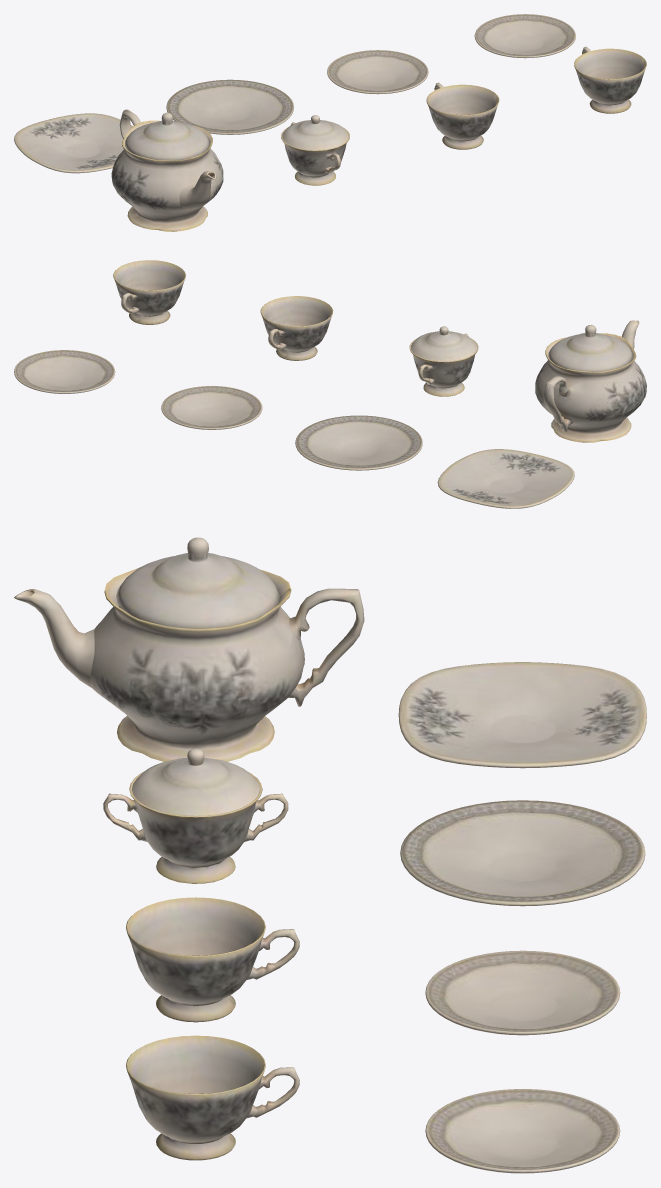
File: tea-set.glb
The picture shows the model from 3 angles, top to bottom: view 1: azimuth 30°, elevation 25°; view 2: azimuth 150°, elevation 25°; view 3: azimuth 270°, elevation 25°; orthographic projection. The views are drawn at different scales.
Parts seen in each view (by area): view 1: tea_set_01_teapot_01, tea_set_01_plate_large_circular_03, tea_set_01_plate_large_square_01, tea_set_01_cup_small_01, tea_set_01_cup_small_02, tea_set_01_saucer_circular_03, tea_set_01_saucer_circular_04, tea_set_01_teapot_01_lid, tea_set_01_sugar_cup_01, tea_set_01_sugar_cup_01_lid; view 2: tea_set_01_teapot_01, tea_set_01_plate_large_square_01, tea_set_01_plate_large_circular_03, tea_set_01_cup_small_02, tea_set_01_cup_small_01, tea_set_01_saucer_circular_04, tea_set_01_saucer_circular_03, tea_set_01_teapot_01_lid, tea_set_01_sugar_cup_01, tea_set_01_sugar_cup_01_lid; view 3: tea_set_01_teapot_01, tea_set_01_plate_large_square_01, tea_set_01_plate_large_circular_03, tea_set_01_cup_small_01, tea_set_01_cup_small_02, tea_set_01_saucer_circular_03, tea_set_01_saucer_circular_04, tea_set_01_teapot_01_lid, tea_set_01_sugar_cup_01, tea_set_01_sugar_cup_01_lid.
Part boxes in pixels (x1=…): tea_set_01_teapot_01: x1=111, y1=109, x2=223, y2=231; tea_set_01_plate_large_circular_03: x1=166, y1=79, x2=293, y2=134; tea_set_01_plate_large_square_01: x1=14, y1=113, x2=133, y2=173; tea_set_01_cup_small_01: x1=426, y1=82, x2=499, y2=149; tea_set_01_cup_small_02: x1=574, y1=46, x2=646, y2=113; tea_set_01_saucer_circular_03: x1=474, y1=14, x2=575, y2=58; tea_set_01_saucer_circular_04: x1=327, y1=50, x2=428, y2=94; tea_set_01_teapot_01_lid: x1=125, y1=112, x2=209, y2=160; tea_set_01_sugar_cup_01: x1=281, y1=122, x2=349, y2=185; tea_set_01_sugar_cup_01_lid: x1=282, y1=115, x2=348, y2=150; tea_set_01_teapot_01: x1=535, y1=320, x2=646, y2=442; tea_set_01_plate_large_square_01: x1=437, y1=449, x2=574, y2=508; tea_set_01_plate_large_circular_03: x1=295, y1=415, x2=422, y2=470; tea_set_01_cup_small_02: x1=113, y1=260, x2=185, y2=324; tea_set_01_cup_small_01: x1=260, y1=296, x2=333, y2=360; tea_set_01_saucer_circular_04: x1=161, y1=386, x2=262, y2=429; tea_set_01_saucer_circular_03: x1=14, y1=350, x2=115, y2=393; tea_set_01_teapot_01_lid: x1=548, y1=324, x2=633, y2=371; tea_set_01_sugar_cup_01: x1=409, y1=333, x2=478, y2=396; tea_set_01_sugar_cup_01_lid: x1=411, y1=326, x2=477, y2=361; tea_set_01_teapot_01: x1=14, y1=567, x2=364, y2=761; tea_set_01_plate_large_square_01: x1=398, y1=662, x2=646, y2=768; tea_set_01_plate_large_circular_03: x1=400, y1=800, x2=645, y2=906; tea_set_01_cup_small_01: x1=126, y1=897, x2=299, y2=1022; tea_set_01_cup_small_02: x1=126, y1=1035, x2=299, y2=1160; tea_set_01_saucer_circular_03: x1=425, y1=1089, x2=620, y2=1173; tea_set_01_saucer_circular_04: x1=425, y1=950, x2=620, y2=1035; tea_set_01_teapot_01_lid: x1=116, y1=537, x2=279, y2=628; tea_set_01_sugar_cup_01: x1=103, y1=771, x2=288, y2=883; tea_set_01_sugar_cup_01_lid: x1=132, y1=748, x2=259, y2=815.
Bounding box in the file's own units: 0.9185 × 0.165 × 0.484.
1 material, 1 textured.
